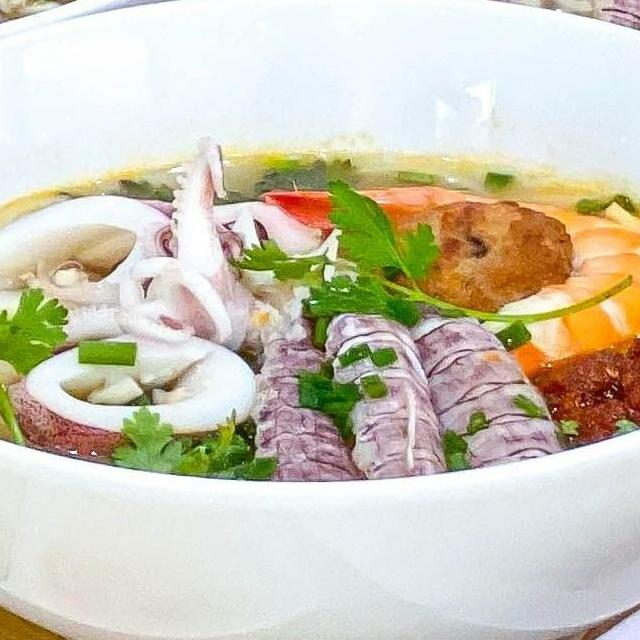bun hai san: (0, 39, 640, 640)
muc: (0, 128, 351, 362), (0, 319, 268, 464), (0, 189, 205, 349)
tom: (253, 179, 640, 386)
tom tit: (385, 290, 569, 480), (241, 276, 373, 500), (310, 298, 456, 486)
